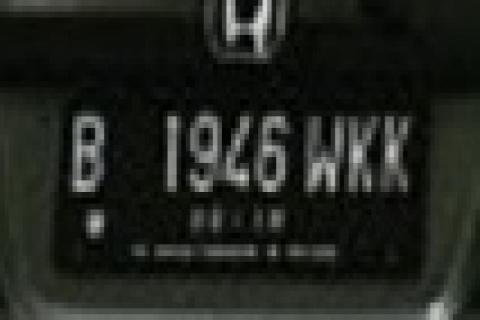LicensePlate: (56, 75, 426, 269)
